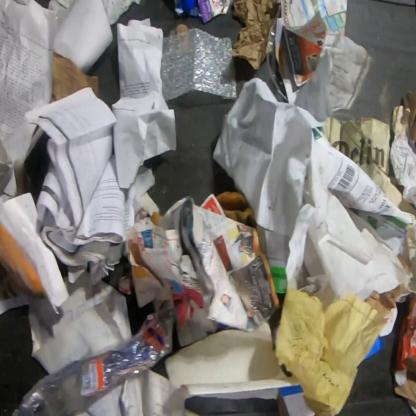cardboard: (321, 116, 415, 220), (49, 51, 100, 104), (393, 294, 415, 405), (364, 283, 410, 323), (215, 189, 254, 227), (197, 0, 231, 25), (406, 88, 415, 142)
rigid_plastic: (265, 5, 289, 103)
soft_plastic: (12, 300, 176, 416), (161, 27, 237, 102)
